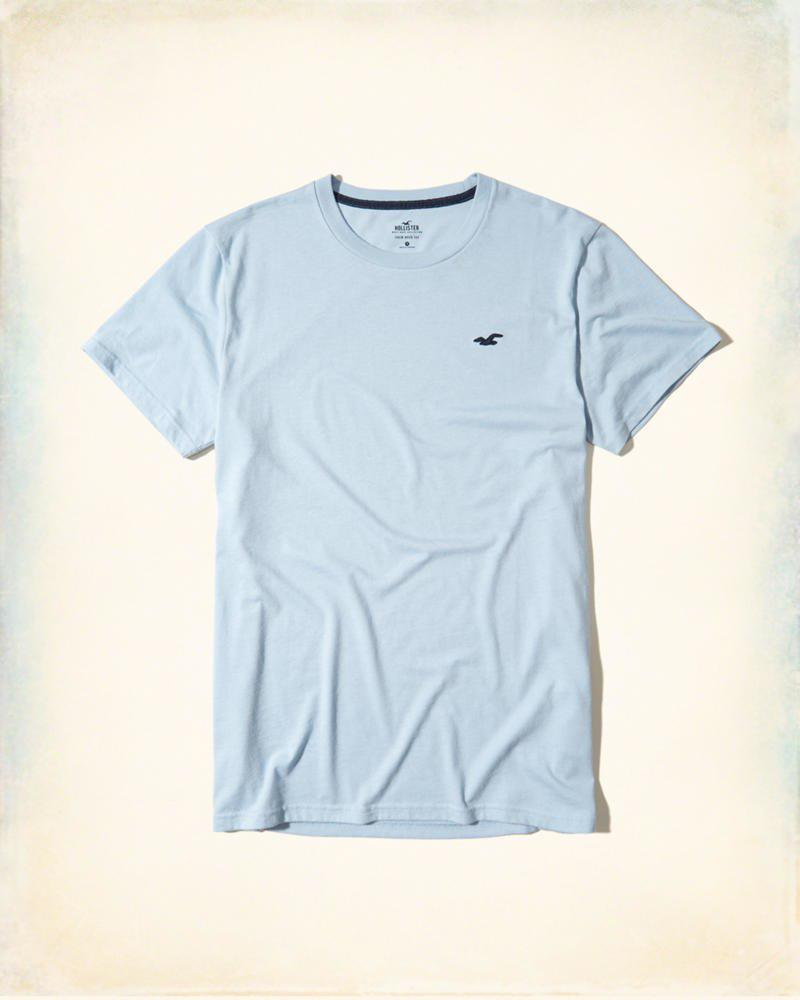teeshirt: (80, 153, 761, 892)
